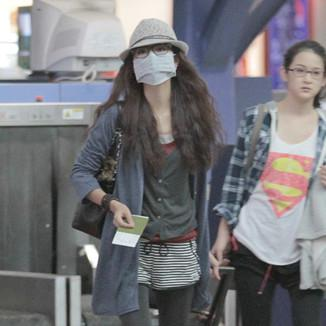NONE: (291, 61, 325, 100)
OK: (133, 39, 179, 86)
